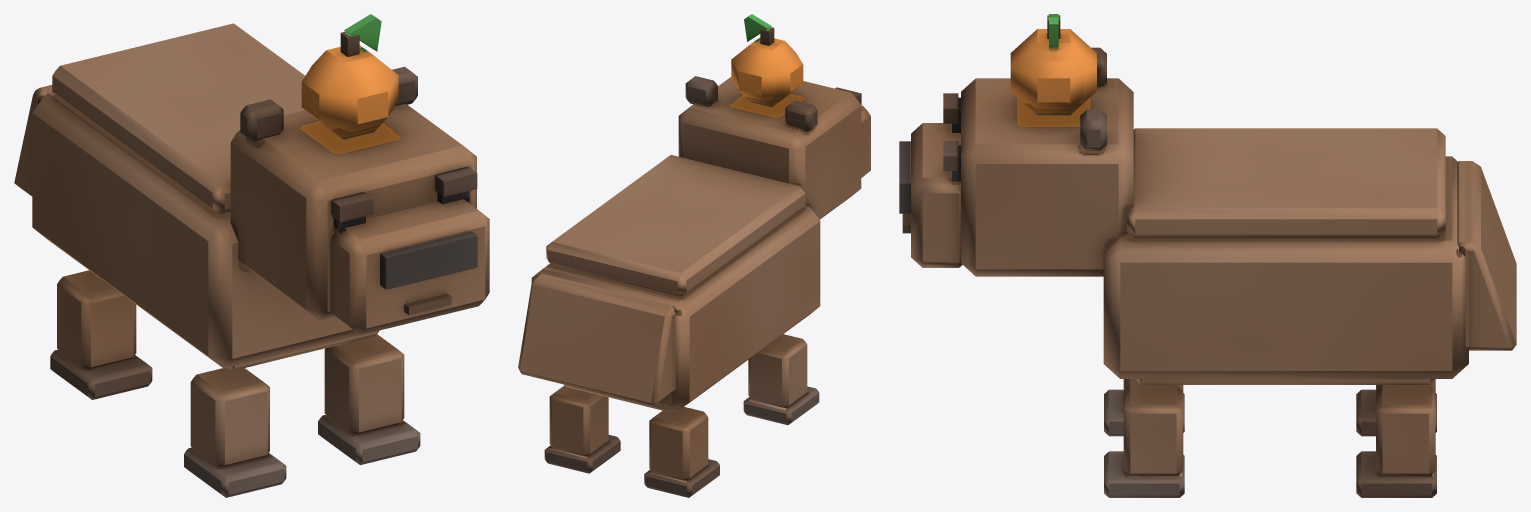
Rendered from CapybaraZen_Rig.fbx.
The picture shows the model from 3 angles, left to right: view 1: azimuth 30°, elevation 25°; view 2: azimuth 150°, elevation 25°; view 3: azimuth 270°, elevation 25°; orthographic projection. The views are drawn at different scales.
Parts seen in each view (by area): view 1: Body, Head, LegFR, LegFL, LegBR; view 2: Body, Head, LegBR, LegFR, LegBL; view 3: Body, Head, LegFL, LegBL, LegFR, LegBR.
Part boxes in pixels (x1,y1,x2,y2): Body: [14, 23, 378, 370]; Head: [230, 14, 489, 335]; LegFR: [184, 367, 286, 497]; LegFL: [318, 334, 420, 465]; LegBR: [50, 270, 152, 399]; Body: [518, 155, 820, 412]; Head: [678, 14, 870, 219]; LegBR: [644, 407, 719, 497]; LegFR: [743, 334, 819, 425]; LegBL: [544, 385, 620, 473]; Body: [1103, 128, 1516, 384]; Head: [899, 14, 1133, 276]; LegFL: [1104, 385, 1184, 497]; LegBL: [1356, 385, 1436, 497]; LegFR: [1104, 379, 1184, 436]; LegBR: [1356, 381, 1436, 436].
Bounding box in the file's own units: 2.82 × 6 × 7.49.
Materials: 1 (1 with a texture image).
